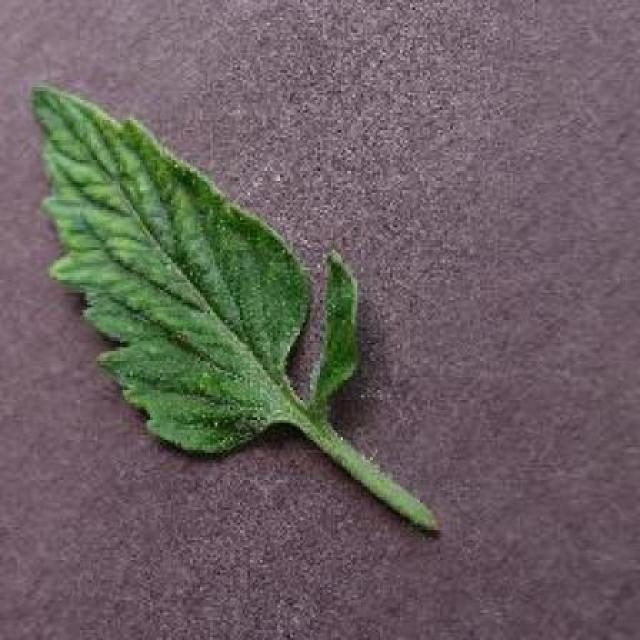Mosaic Virus: (25, 77, 364, 454)
